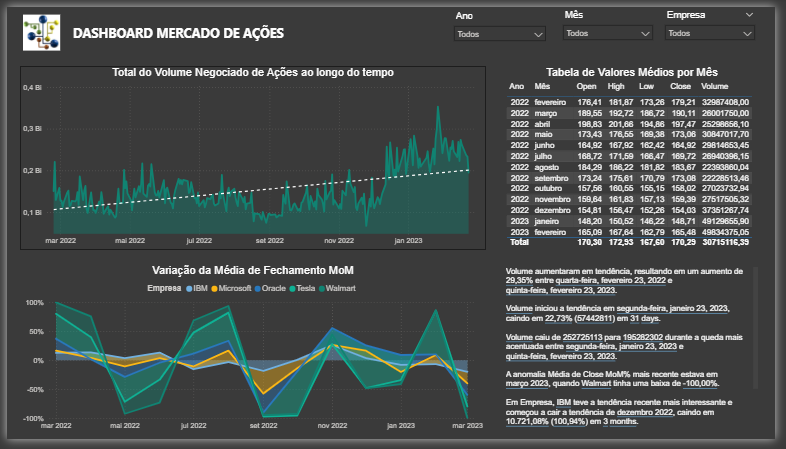

The page's visual inventory and layout, read from the dashboard file:
{"tool":"powerbi","page":{"name":"Página 1","canvas":[1280,720],"ordinal":0},"visuals":[{"type":"areaChart","title":"Total do Volume Negociado de Ações ao longo do tempo ","fields":{"Category":["StockMarket.Data.Variation.Hierarquia de datas.Ano","StockMarket.Data.Variation.Hierarquia de datas.Trimestre","StockMarket.Data.Variation.Hierarquia de datas.Mês","StockMarket.Data.Variation.Hierarquia de datas.Dia"],"Y":["Sum(StockMarket.Volume)"]},"box":[21.7,98.3,776.7,306.7],"z":0},{"type":"tableEx","title":"Tabela de Valores Médios por Mês","fields":{"Values":["StockMarket.Data.Variation.Hierarquia de datas.Ano","StockMarket.Data.Variation.Hierarquia de datas.Mês","Avg(StockMarket.Open)","Avg(StockMarket.High)","Avg(StockMarket.Low)","Avg(StockMarket.Close)","Avg(StockMarket.Volume)"]},"box":[826.7,98.3,430,330],"z":1},{"type":"slicer","fields":{"Values":["StockMarket.Empresa"]},"box":[1086.7,0,170,70],"z":2},{"type":"hundredPercentStackedAreaChart","title":"Variação da Média de Fechamento MoM","fields":{"Y":["StockMarket.Média de Close MoM%"],"Category":["StockMarket.Data.Variation.Hierarquia de datas.Ano","StockMarket.Data.Variation.Hierarquia de datas.Mês"],"Series":["StockMarket.Empresa"]},"box":[21.7,428.3,776.7,285],"z":3},{"type":"slicer","fields":{"Values":["StockMarket.Data.Variation.Hierarquia de datas.Mês"]},"box":[916.7,0,170,85],"z":5},{"type":"slicer","fields":{"Values":["StockMarket.Data.Variation.Hierarquia de datas.Ano"]},"box":[735,1.7,173.3,71.7],"z":6},{"type":"textbox","box":[827,428,430,285],"z":7},{"type":"image","box":[21.7,6.7,71.7,71.7],"z":8},{"type":"textbox","box":[105,23.3,435,55],"z":9}]}

Visuals, with their boxes in screenshot pixels (x1, y1, x2, y2), scaled from the page's 1280x720 canvas onto the 786x449 screenshot:
"Total do Volume Negociado de Ações ao longo do tempo " areaChart: box=[13, 61, 490, 253]
"Tabela de Valores Médios por Mês" tableEx: box=[508, 61, 772, 267]
slicer - StockMarket.Empresa: box=[667, 0, 772, 44]
"Variação da Média de Fechamento MoM" hundredPercentStackedAreaChart: box=[13, 267, 490, 445]
slicer - StockMarket.Data.Variation.Hierarquia de datas.Mês: box=[563, 0, 667, 53]
slicer - StockMarket.Data.Variation.Hierarquia de datas.Ano: box=[451, 1, 558, 46]
textbox: box=[508, 267, 772, 445]
image: box=[13, 4, 57, 49]
textbox: box=[64, 15, 332, 49]
